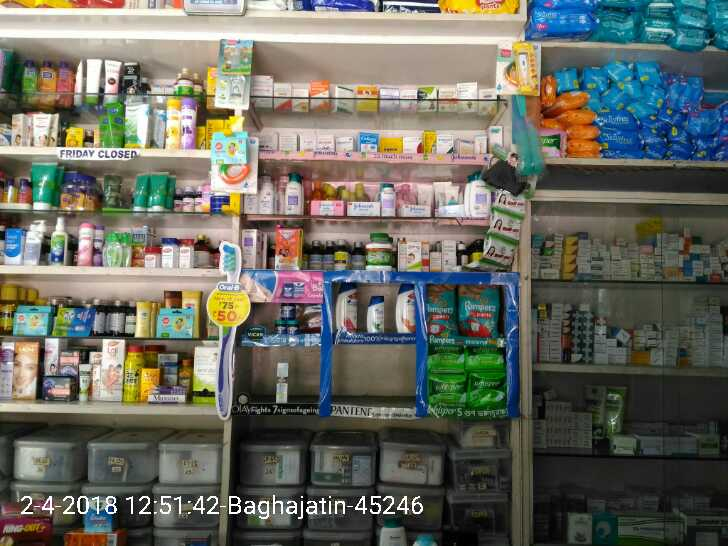vicks: (273, 305, 300, 338)
